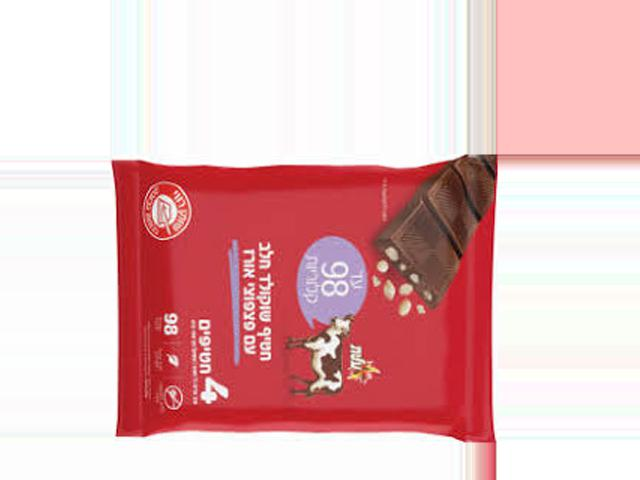chocolate: (108, 165, 492, 440)
